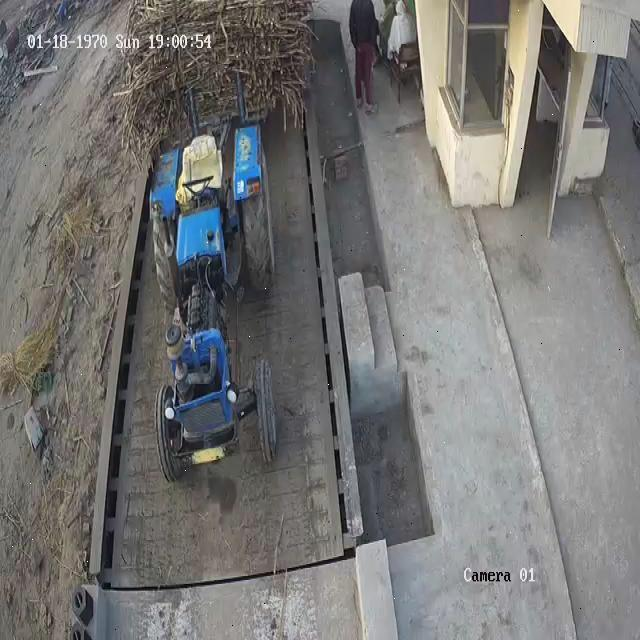Tratores - v5 YOLO V8L 2024-11-13: (150, 138, 275, 474)
